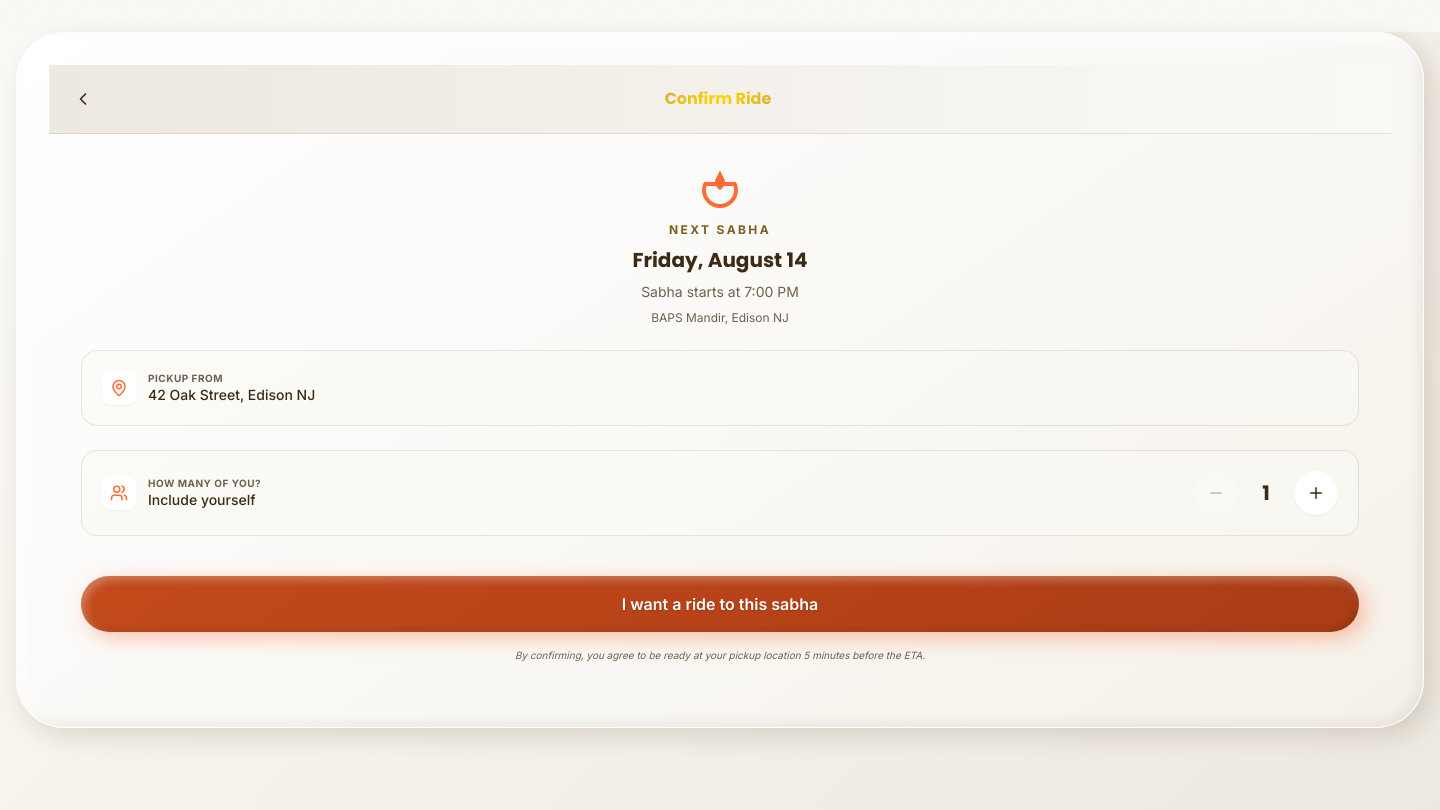
it: PickupForm — "Keep us in one car" › appears as soon as a second person is added
The image size is (1440, 810).
What coordinates should you click on to do the following:
click the button named "one more person"
I would click on:
 (1316, 493)
Its box is [1294,471,1338,515].
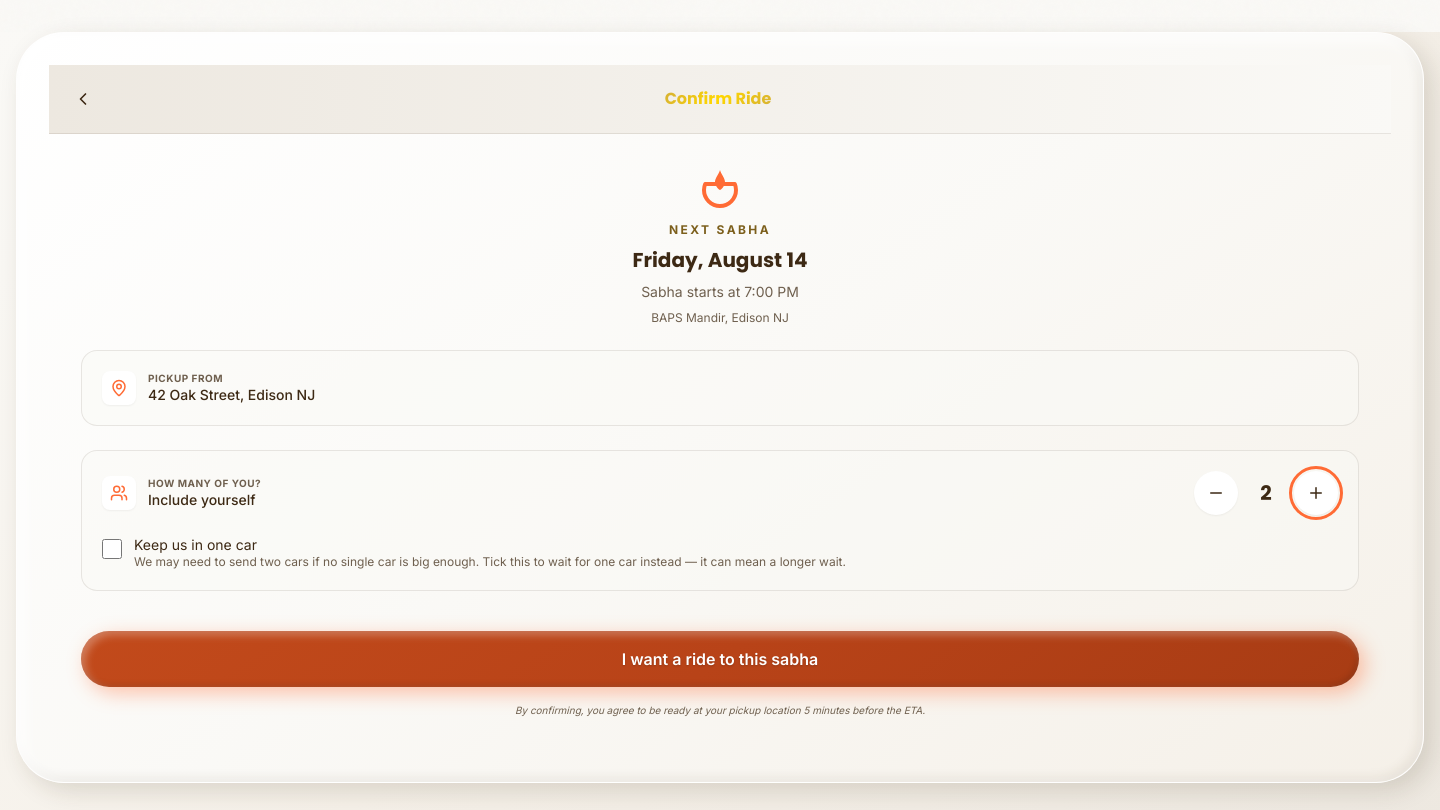
Result: the checkbox is shown at [102,539,122,559]
Result: the text "Keep us in one car" is shown at [134,536,257,553]
